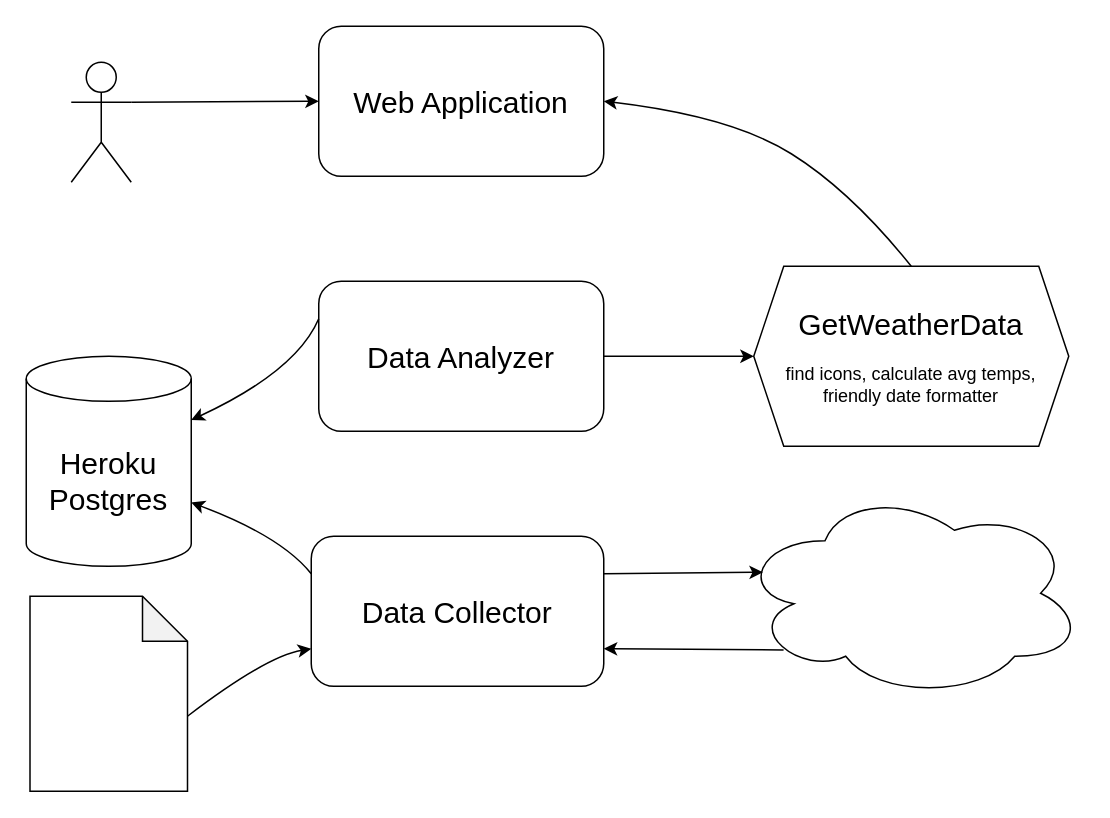
Some shapes in this 1110 by 818 pixel diagram are drawn without their labels. The box of each missing label's shape, as (x1, y1, x2, y2) in pixels:
Heroku Scheduler: (28, 595, 188, 791)
OpenWeather API: (737, 487, 1084, 698)
